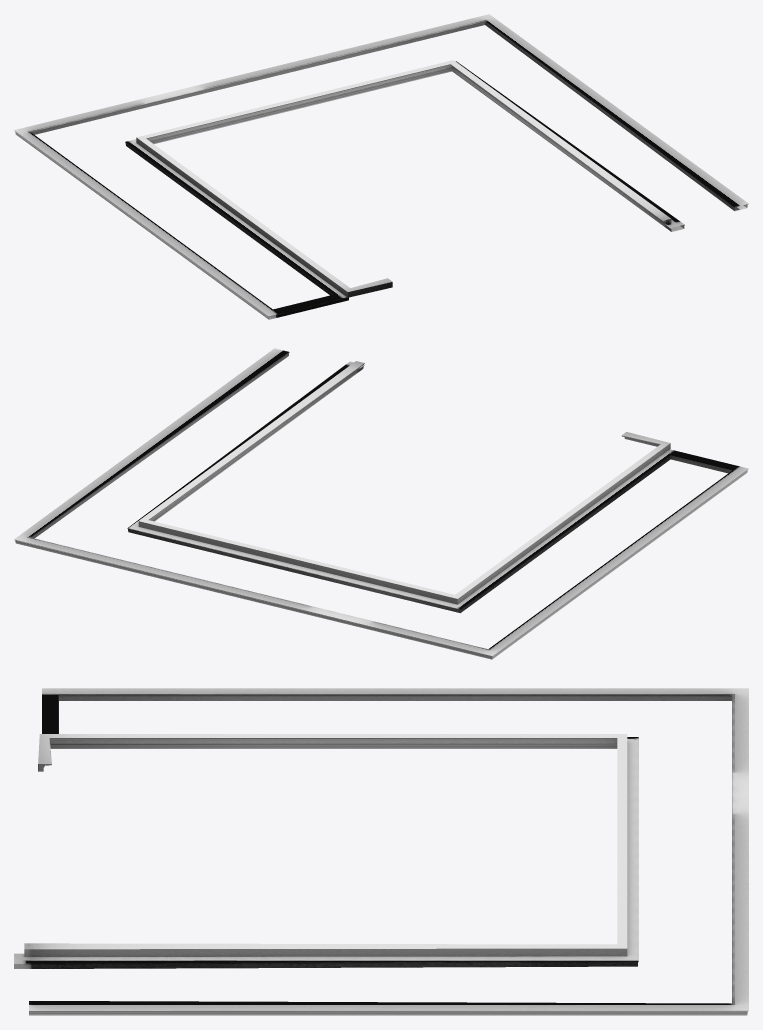
File: propylon-court-architrave.glb
3 views of the same model, one above another, from view 1: azimuth 30°, elevation 25°; view 2: azimuth 150°, elevation 25°; view 3: azimuth 270°, elevation 25° (orthographic). The views are drawn at different scales.
Parts seen in each view (by area): view 1: row2.001; view 2: row2.001; view 3: row2.001.
Part boxes in pixels (x1,y1,x2,y2): row2.001: (14,14,748,319); row2.001: (14,348,748,659); row2.001: (14,688,748,1015).
Size of the model in its own units: 33.81 by 0.6627 by 32.56.
1 material, 1 textured.
